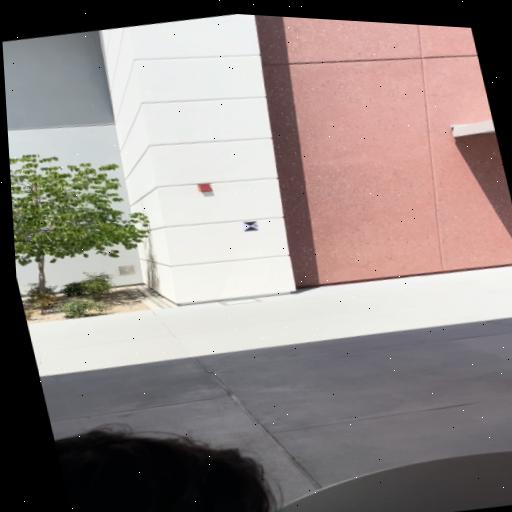target6: (241, 219, 259, 233)
